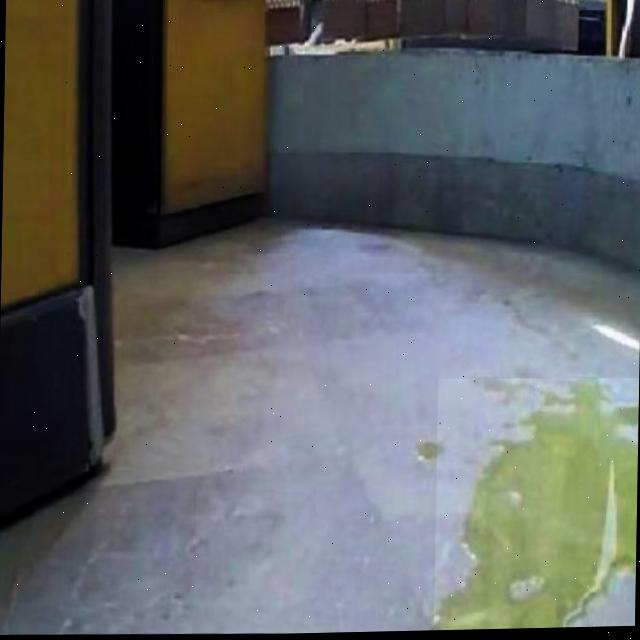spillage: (433, 381, 638, 632)
